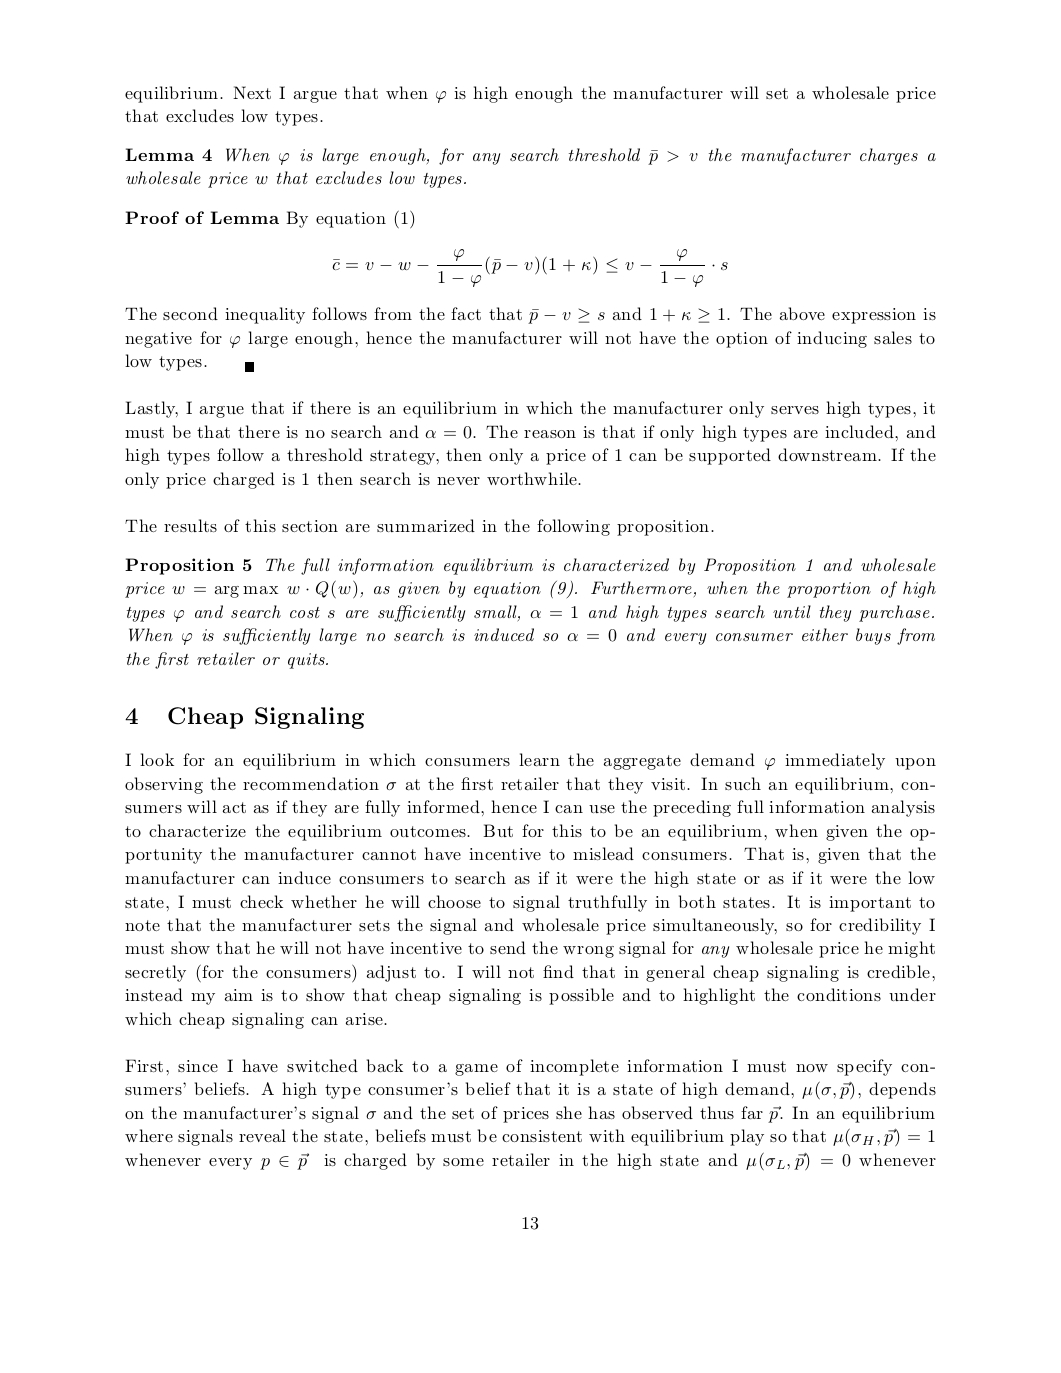formula: (332, 249, 727, 288)
